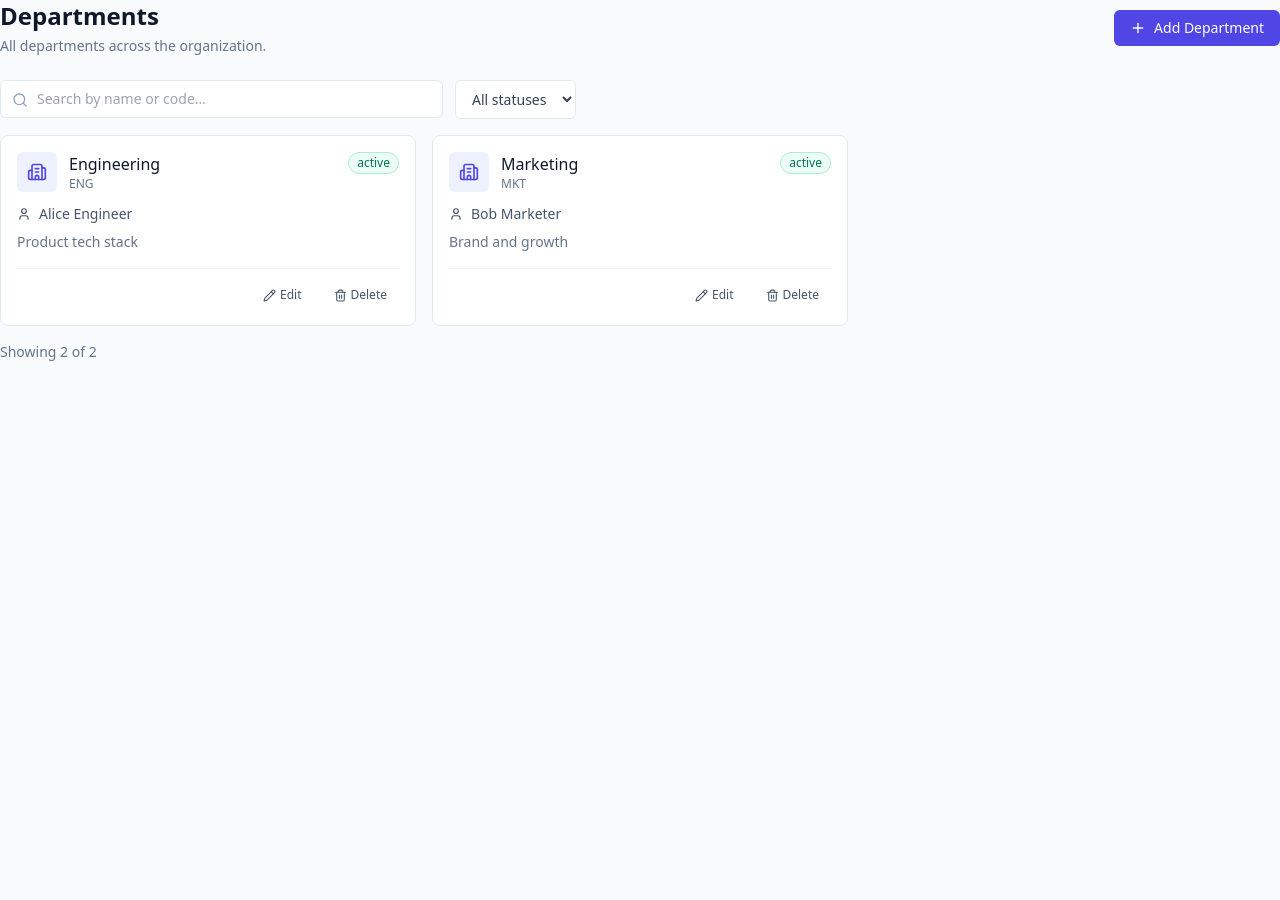
Test: DepartmentsPage - CRUD Workflows › Add and Edit Workflows › opens Edit Department modal with existing values prefilled, updates the department, and refreshes list
Check: the text "Engineering" is shown, box [69,152,160,176]
Click the button "Edit" below "Product tech stack". click: (282, 295)
box: [251,281,314,309]
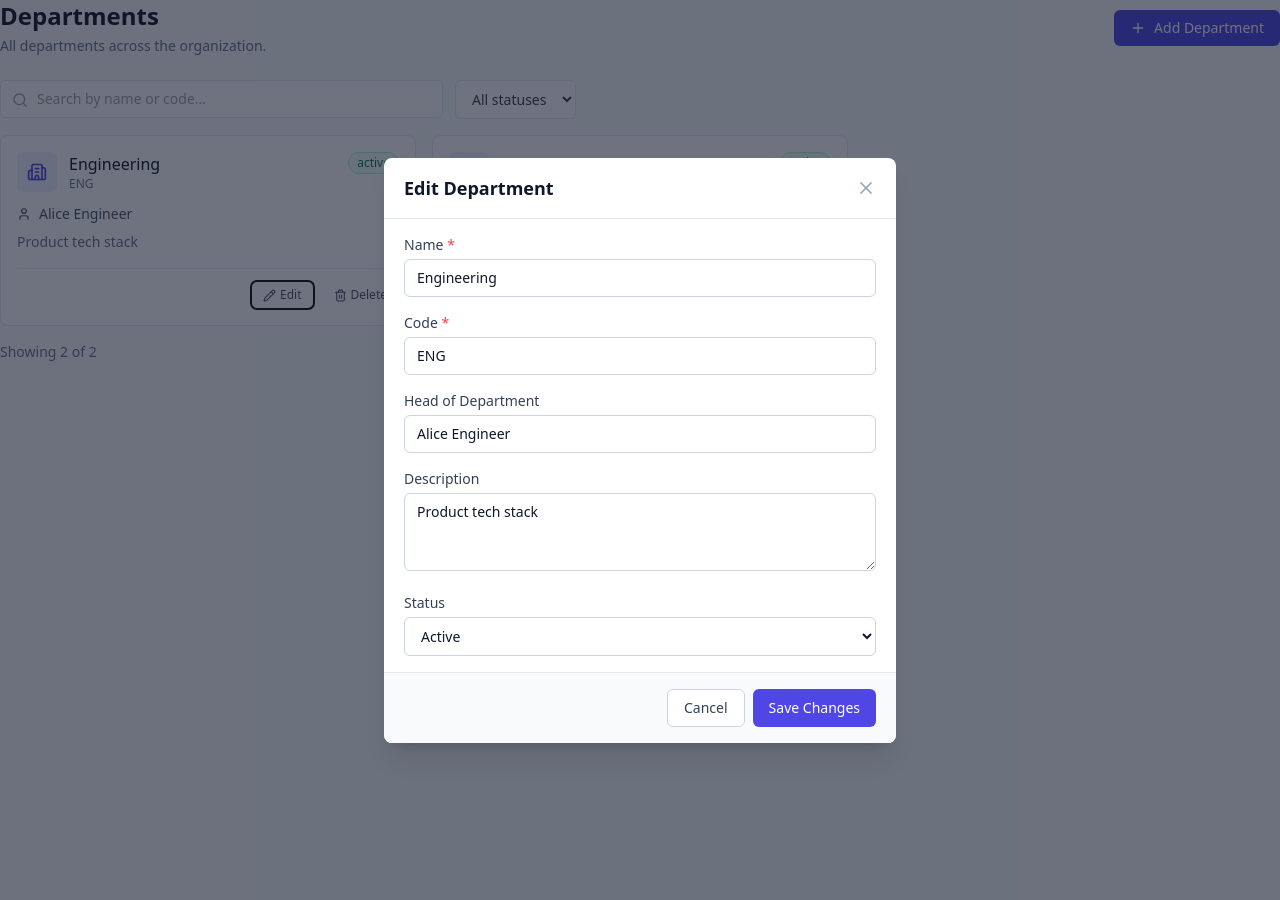
Check: the heading "Edit Department" is shown, box [404,174,554,202]
Check: the field labelled "Name *" holds "Engineering", box [404,258,876,296]
Check: the field labelled "Code *" holds "ENG", box [404,336,876,374]
Replace the text in the field labelled "Head of Department" with "Alice Senior Director". click: (640, 434)
box: [404,414,876,452]
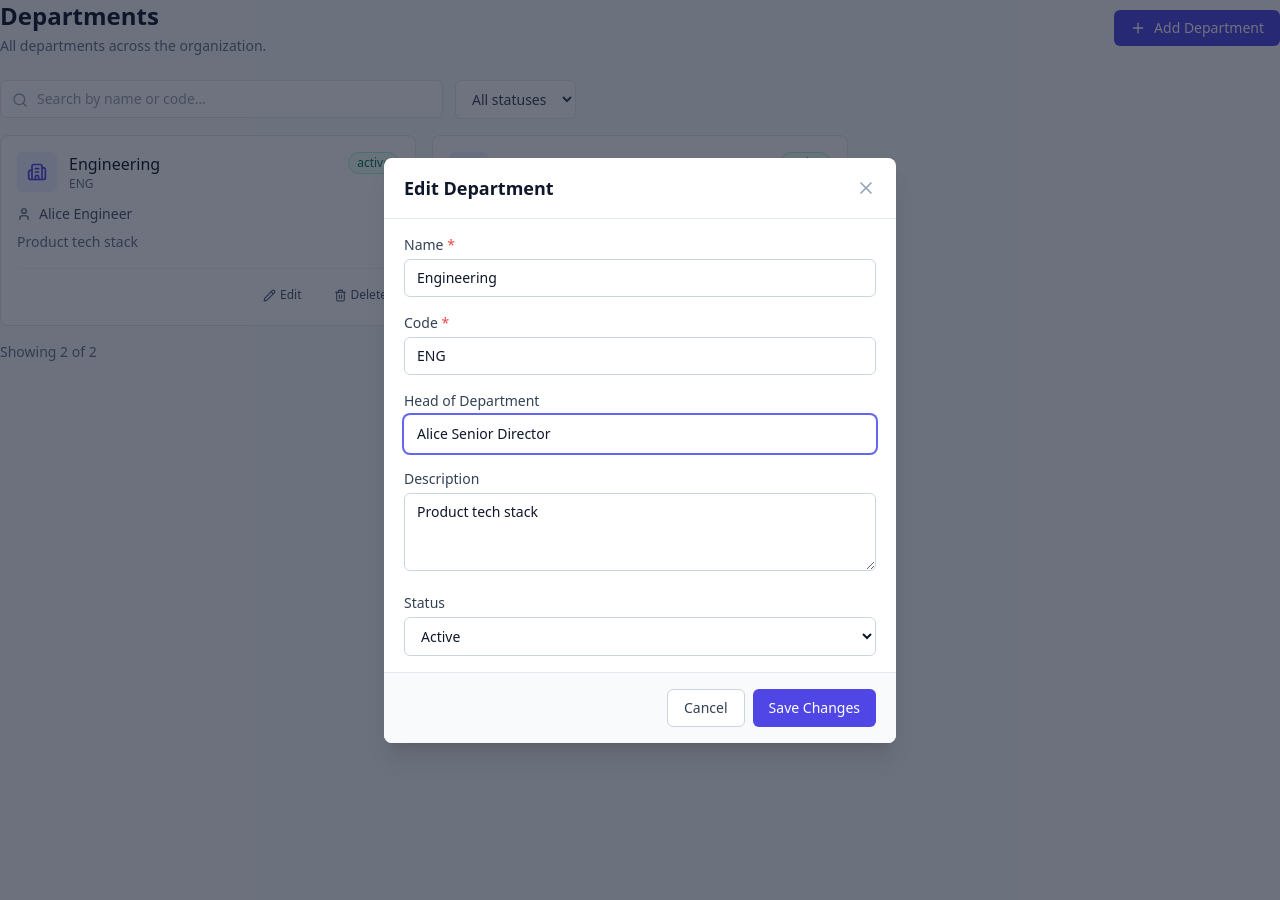
Click the button "Save Changes". click: (814, 708)
box: [753,688,876,726]
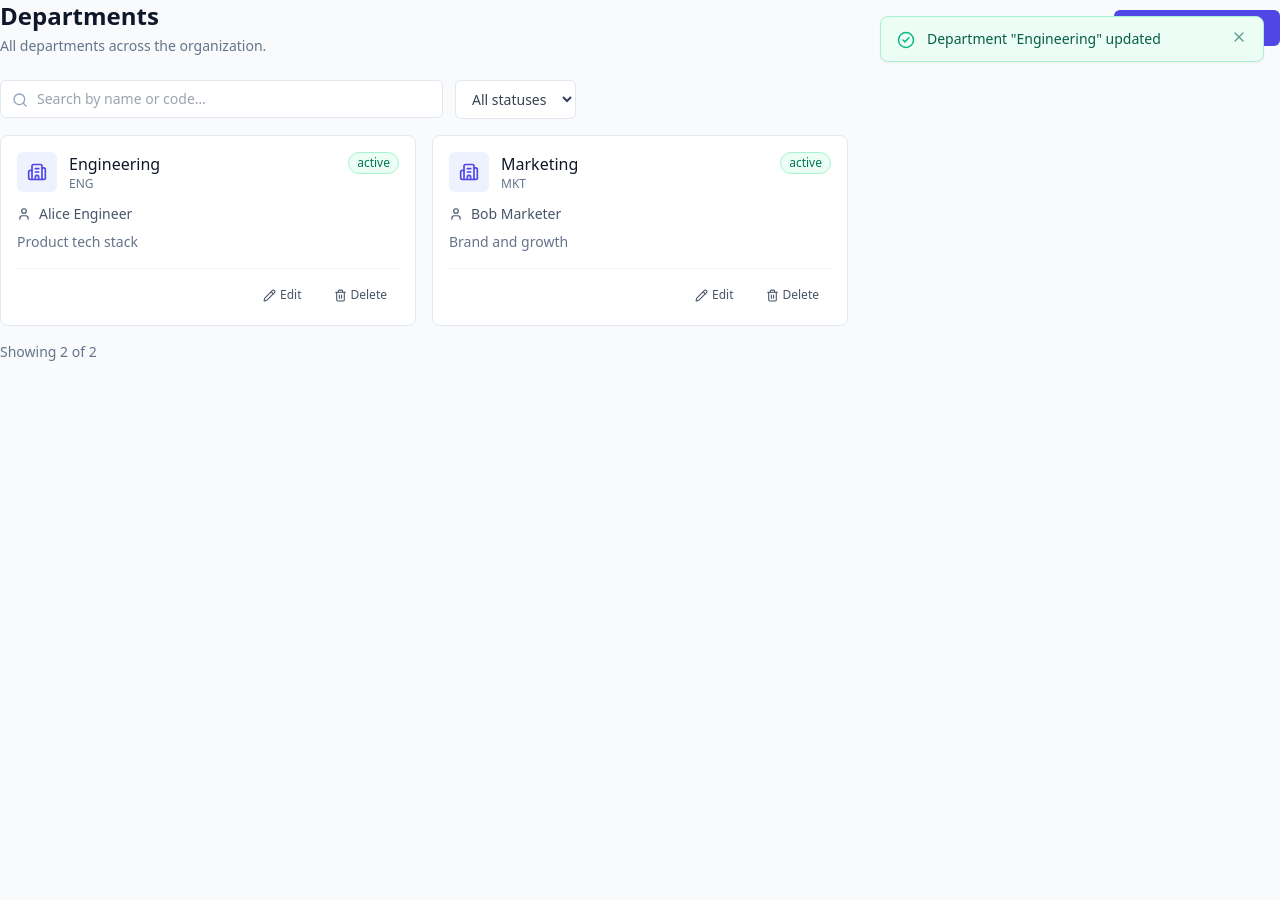
Check: the text "Department \"Engineering\" updated" is shown, box [927,29,1161,48]
Check: the heading "Edit Department" is gone
